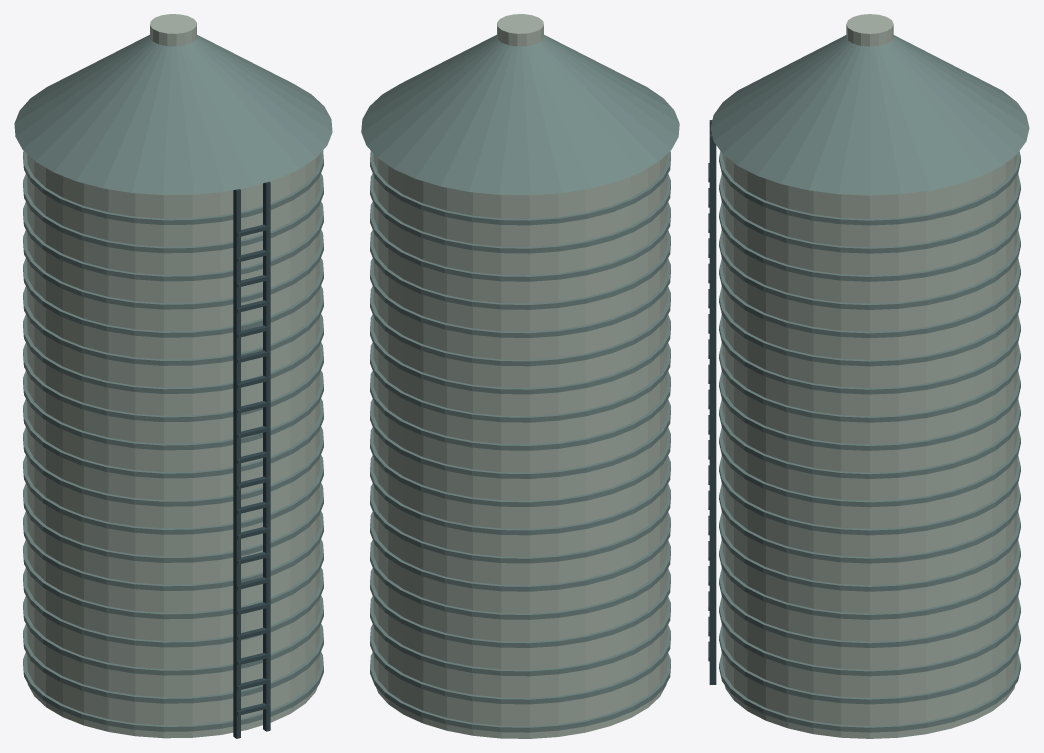
File: tower_silo.glb
3 renders of one model, left to right at view 1: azimuth 30°, elevation 25°; view 2: azimuth 150°, elevation 25°; view 3: azimuth 270°, elevation 25°, orthographic.
Parts seen in each view (by area): view 1: tower_silo; view 2: tower_silo; view 3: tower_silo.
Boxes of the visible parts, bbox=[...] form: tower_silo: bbox=[14, 14, 332, 738]; tower_silo: bbox=[361, 14, 679, 738]; tower_silo: bbox=[708, 14, 1029, 738].
Size of the model in its own units: 3.9 by 8.81 by 3.93.
